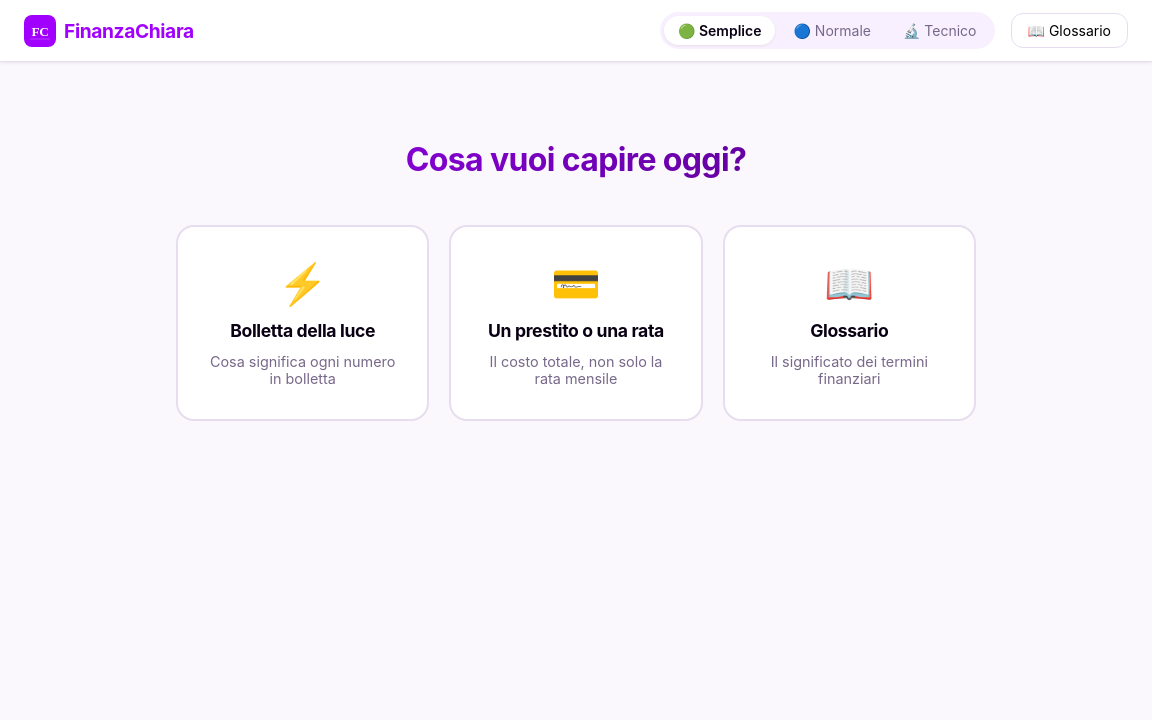
Test: Flusso utente completo › ai valori di default la simulazione riproduce la bolletta di esempio
Click the heading "Bolletta della luce". click: [303, 331]
box: [230,320,375,341]
(page scrolled)
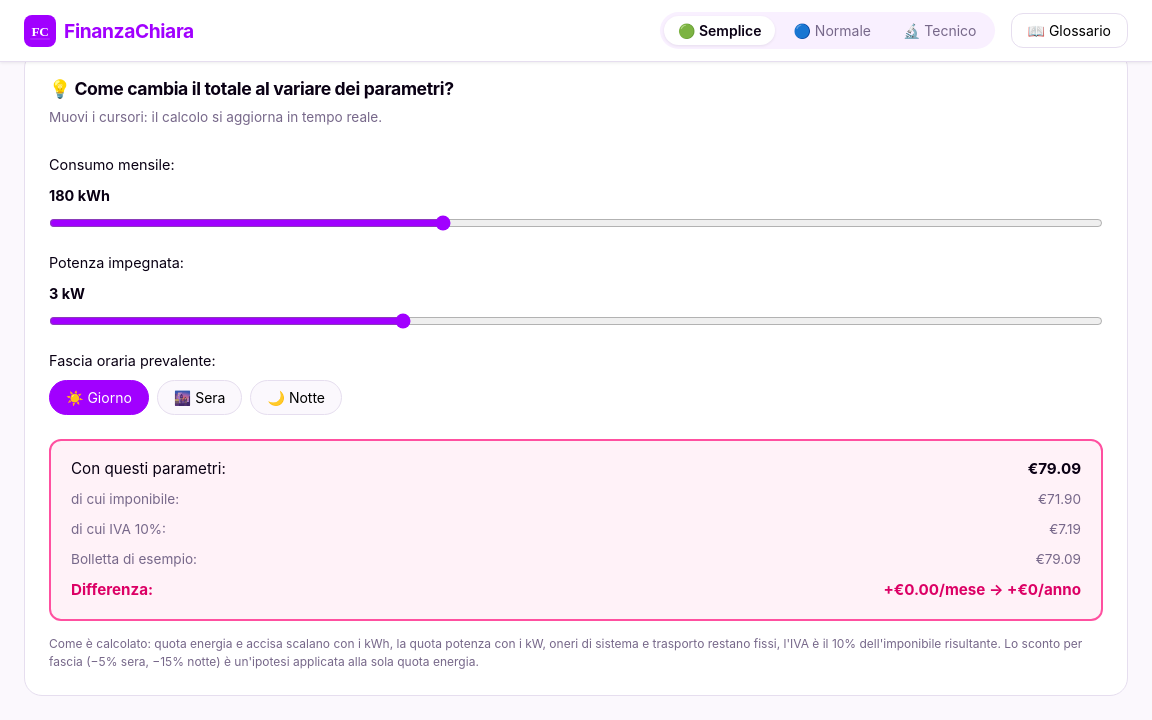
Result: the text "+€0.00/mese → +€0/anno" is shown at [883,578,1081,603]
